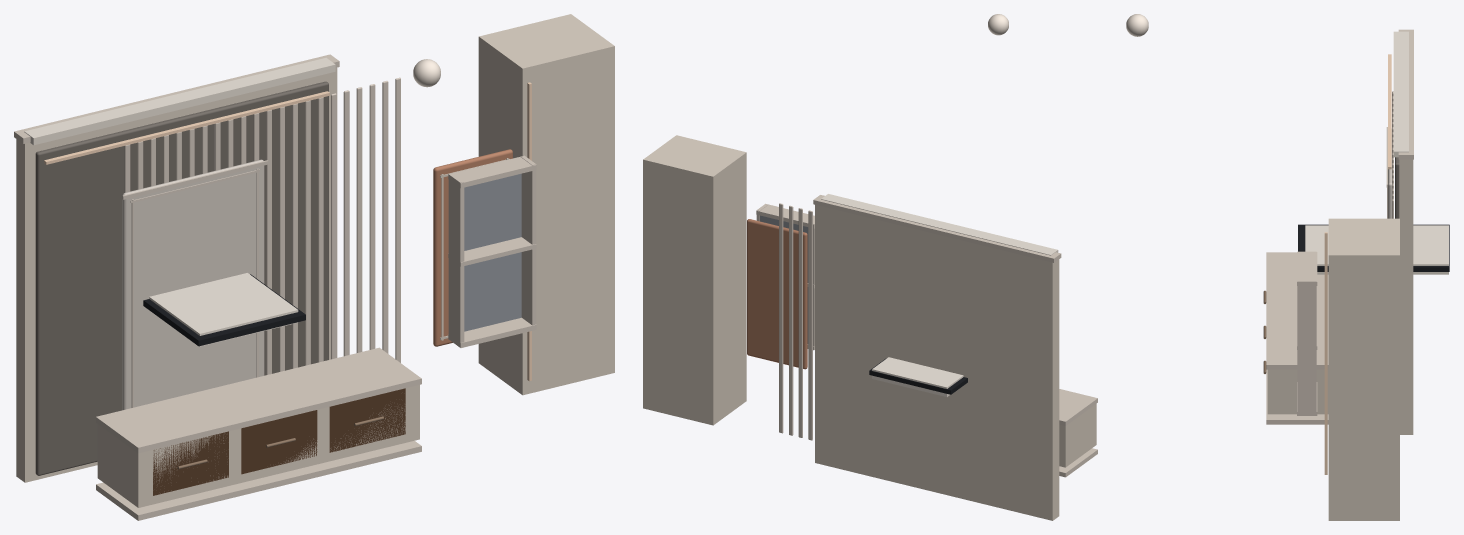
File: tv-lounge-suite.glb
3 renders of one model, left to right at view 1: azimuth 30°, elevation 25°; view 2: azimuth 150°, elevation 25°; view 3: azimuth 270°, elevation 25°, orthographic. The views are drawn at different scales.
Visible parts, largest first — view 1: tv-feature-wall, tv-side-shell, tv-center-panel, tv-console-top, tv-wall-shell, tv-console-shell, tv-open-shelf-back, tv-screen-void, tv-top-cap, tv-console-shadow-line, tv-console-right, tv-console-center (+22 smaller); view 2: tv-wall-shell, tv-side-shell, tv-shelf-panel, tv-top-cap, tv-wall-trim-top, tv-screen-void, tv-console-shell, tv-feature-rib-18, tv-feature-rib-19, tv-feature-rib-20, tv-feature-rib-21, tv-console-top (+1 smaller); view 3: tv-side-shell, tv-console-top, tv-wall-shell, tv-open-shelf-right, tv-screen-void, tv-top-cap, tv-console-shell, tv-side-led-strip, tv-wall-trim-top, tv-console-shadow-line, tv-screen-frame, tv-open-shelf-top (+2 smaller).
Part boxes in pixels (x1,y1,x2,y2): tv-feature-wall: (35, 81, 328, 475); tv-side-shell: (478, 14, 614, 395); tv-center-panel: (122, 159, 264, 410); tv-console-top: (96, 347, 421, 453); tv-wall-shell: (16, 67, 337, 482); tv-console-shell: (97, 385, 419, 507); tv-open-shelf-back: (464, 173, 521, 331); tv-screen-void: (149, 273, 298, 346); tv-top-cap: (24, 57, 335, 145); tv-console-shadow-line: (96, 440, 421, 520); tv-console-right: (329, 388, 405, 452); tv-console-center: (241, 410, 317, 474); tv-wall-shell: (815, 205, 1059, 520); tv-side-shell: (643, 135, 746, 425); tv-shelf-panel: (747, 219, 807, 369); tv-top-cap: (821, 194, 1058, 255); tv-wall-trim-top: (813, 195, 1061, 262); tv-screen-void: (872, 357, 963, 396); tv-console-shell: (1059, 404, 1096, 467); tv-feature-rib-18: (808, 210, 812, 440); tv-feature-rib-19: (798, 208, 802, 437); tv-feature-rib-20: (789, 205, 793, 435); tv-feature-rib-21: (779, 203, 783, 433); tv-console-top: (1059, 389, 1097, 425); tv-side-shell: (1328, 218, 1399, 520); tv-console-top: (1266, 252, 1328, 369); tv-wall-shell: (1399, 159, 1413, 434); tv-open-shelf-right: (1297, 280, 1316, 415); tv-screen-void: (1305, 225, 1448, 274); tv-top-cap: (1393, 31, 1408, 157); tv-console-shell: (1267, 369, 1328, 414); tv-side-led-strip: (1324, 232, 1327, 474); tv-wall-trim-top: (1398, 29, 1413, 159); tv-console-shadow-line: (1266, 369, 1328, 424); tv-screen-frame: (1298, 224, 1449, 271); tv-open-shelf-top: (1297, 252, 1317, 285).
Bounding box in the file's own units: 8.08 × 6.78 × 5.08.
